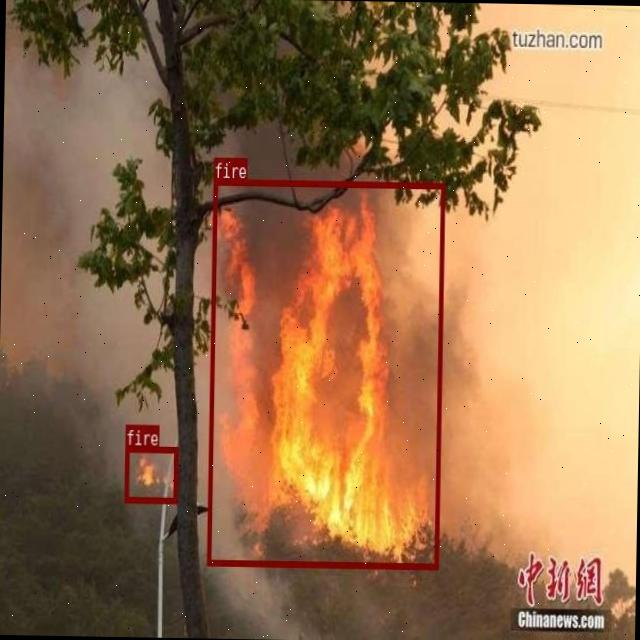fire: (206, 178, 444, 568), (124, 446, 178, 502)
